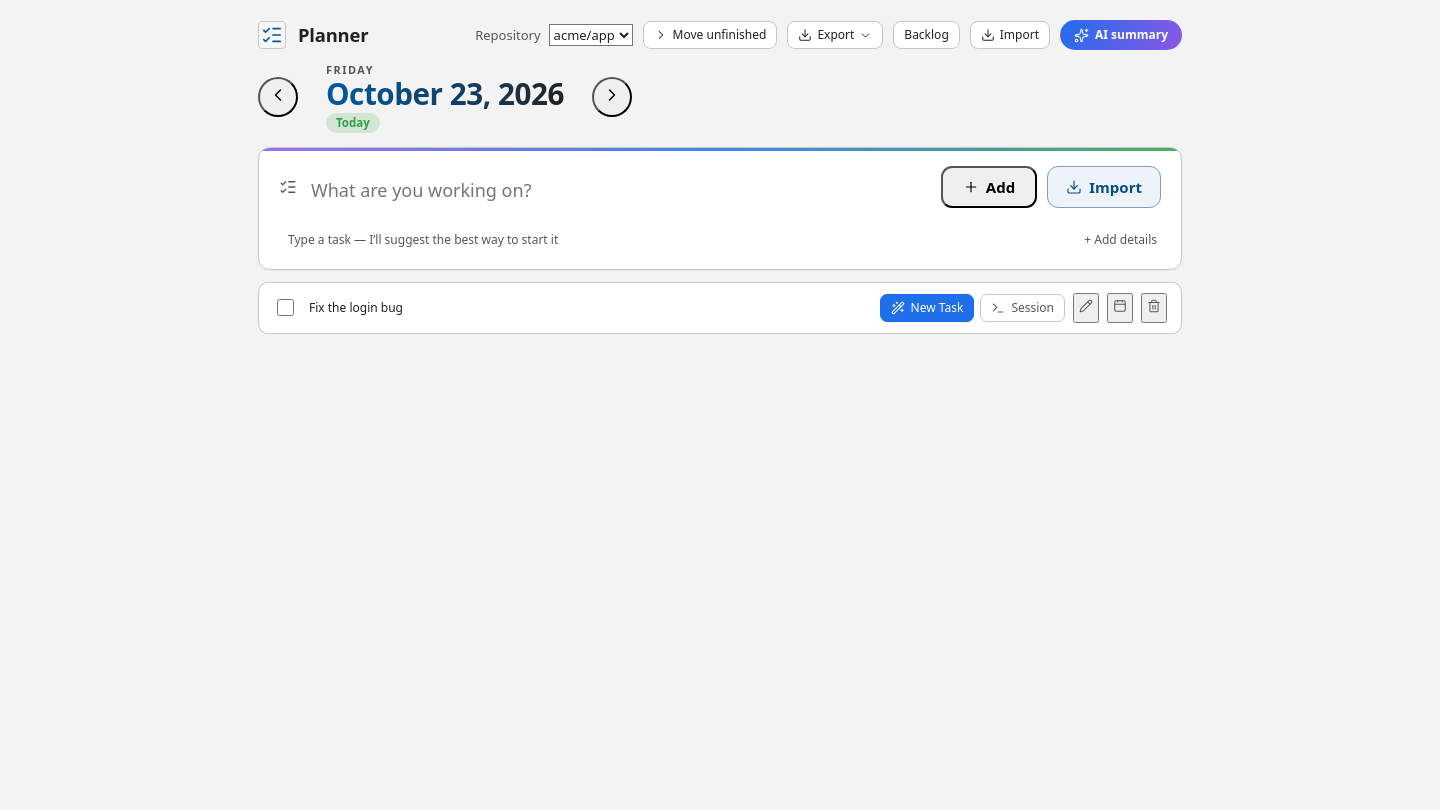
it: PlannerView › surfaces an error when summary generation fails
Click the button "AI summary" at x=1121, y=35, box [1060, 20, 1182, 50]
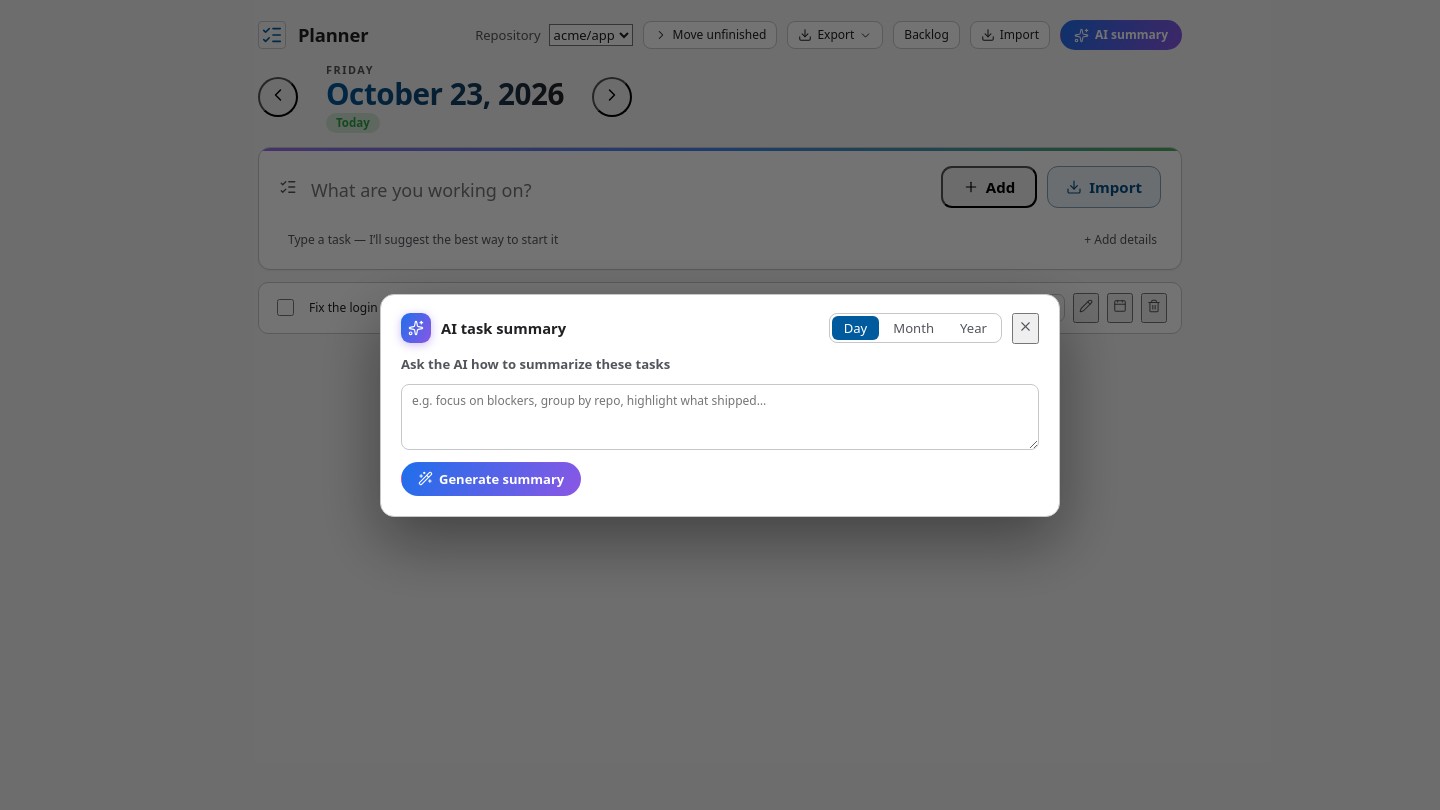
Click the button "Generate summary" at x=491, y=478, box [401, 462, 581, 496]
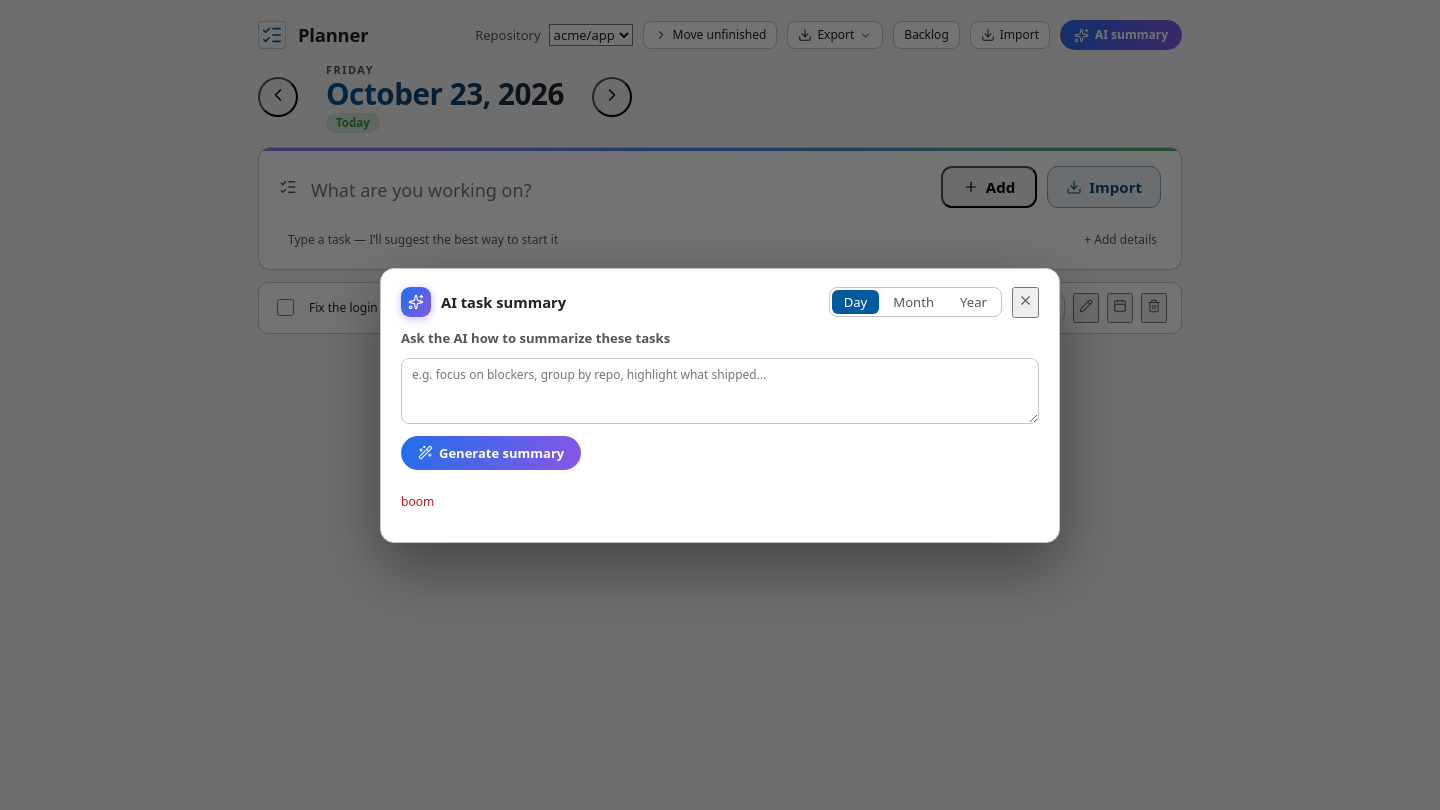
Expected: the text "boom" is shown, [401, 492, 434, 510]
